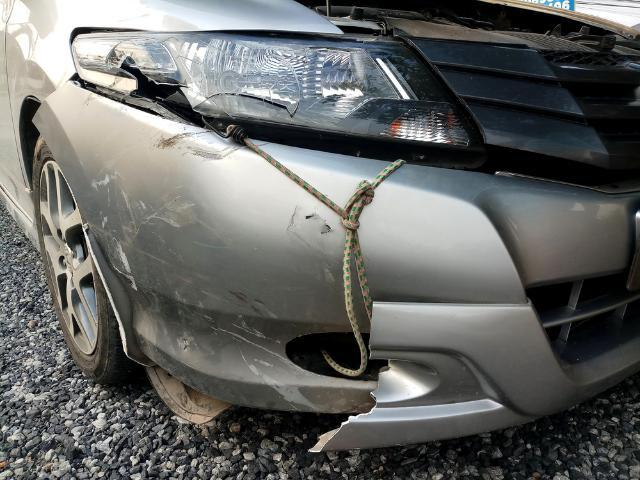dislocated part: (32, 77, 576, 454)
lamp broken: (72, 30, 468, 148)
scratch: (88, 169, 324, 409)
